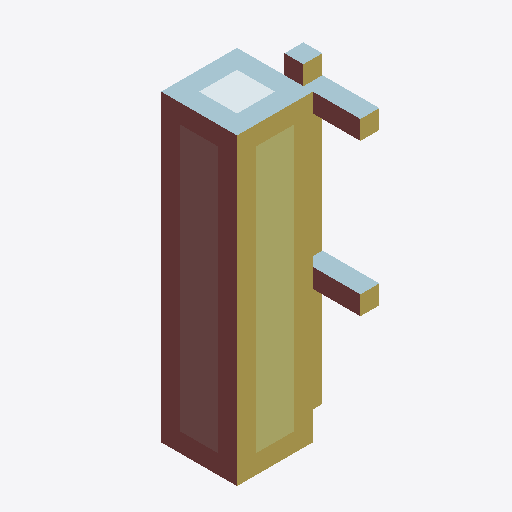
Isometric view (azimuth 45°, elevation 35.3°) of a Minecraft model made of 8 cuboids, textured from the same repository.
Parts seen in each view (by area): Palo, Grad1, Grad4, Grad3.
Part boxes in pixels (left/top/right/bottom): Palo: left=161, top=48, right=312, bottom=485; Grad1: left=284, top=42, right=321, bottom=408; Grad4: left=304, top=75, right=378, bottom=140; Grad3: left=313, top=251, right=378, bottom=315.
Size of the model in its own units: 6 by 16 by 7.